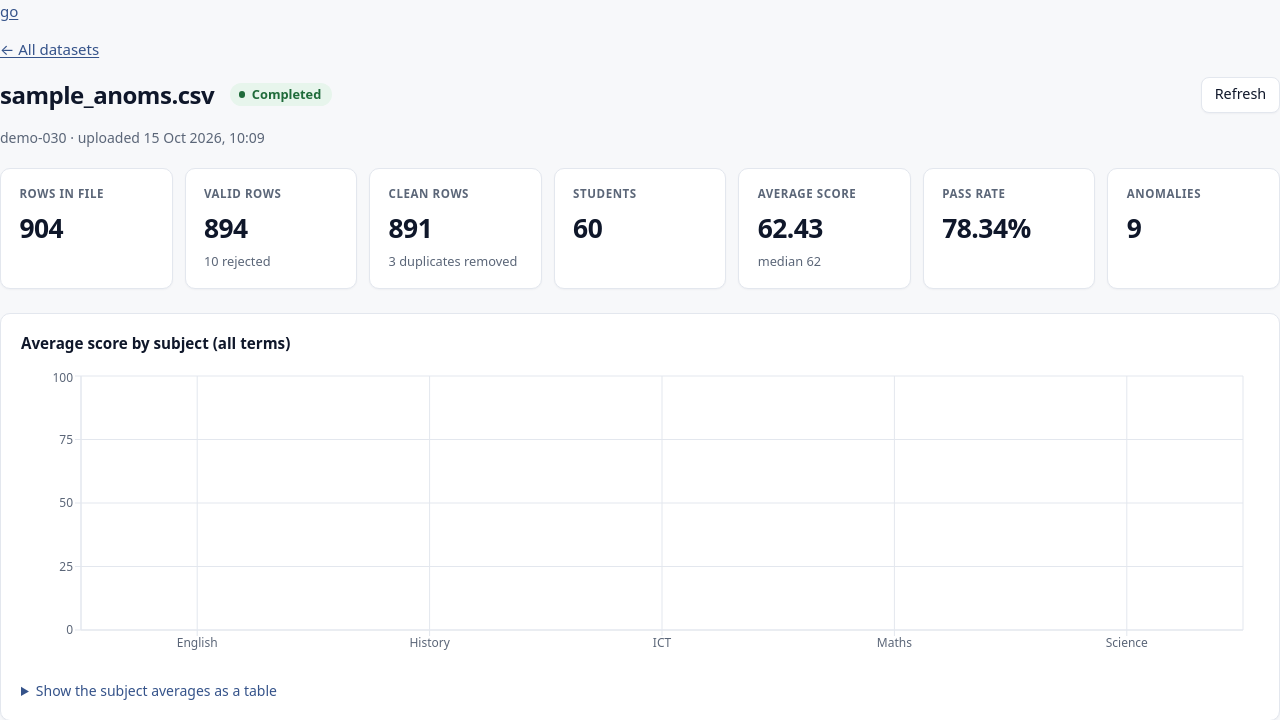
Test: DatasetDetailPage: other states › does not show the previous dataset's data after navigating to another one
Step 1. Click the link "go" → (9, 11), box [0,1,18,21]
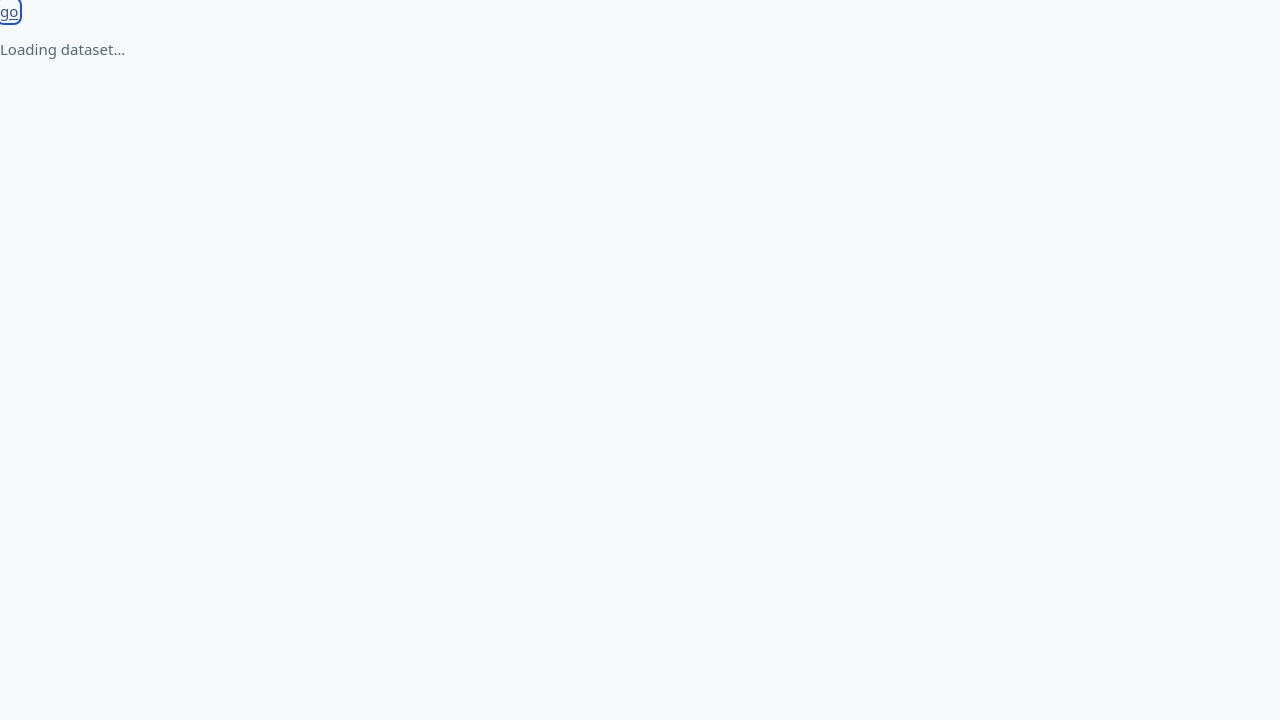
Expected: the message shows "Loading dataset", [0,39,113,59]
